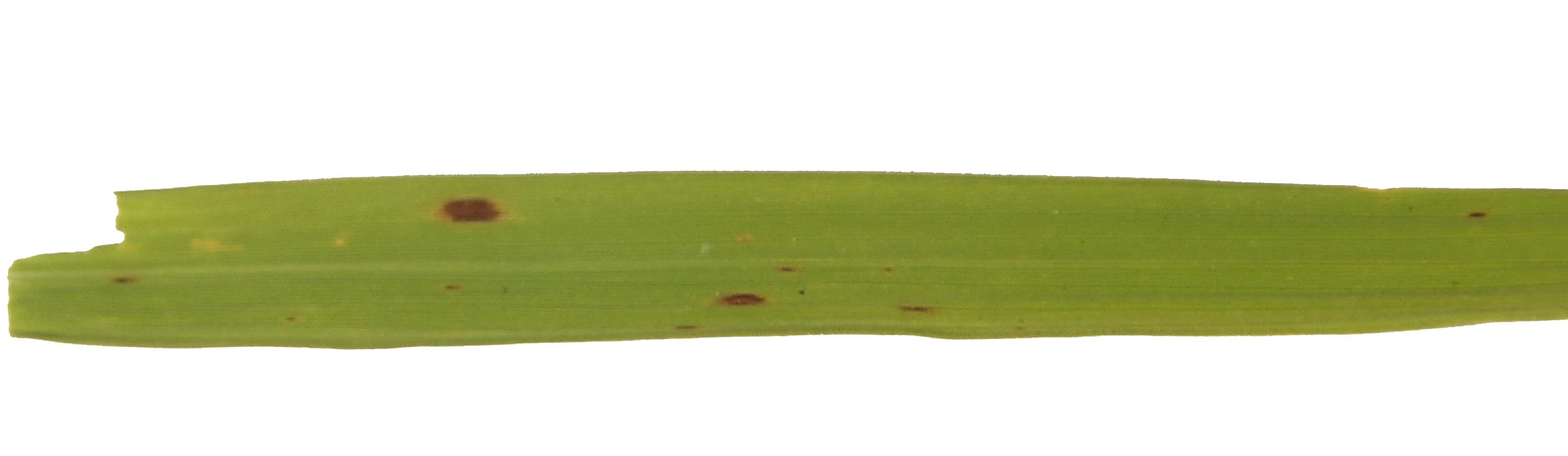Brown spot: (439, 186, 507, 229), (707, 281, 777, 315)
